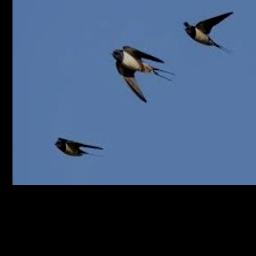Swallow: (112, 45, 177, 102), (184, 12, 234, 54), (55, 137, 104, 157)
